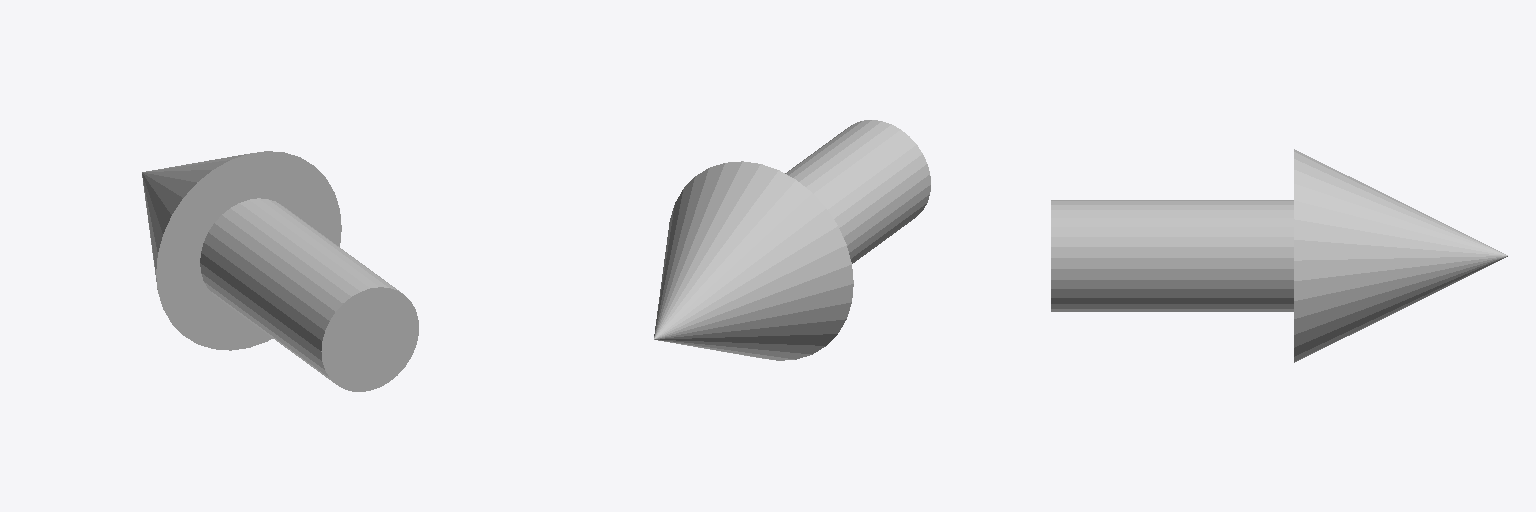
File: arrow.obj
The picture shows the model from 3 angles: view 1: azimuth 30°, elevation 25°; view 2: azimuth 150°, elevation 25°; view 3: azimuth 270°, elevation 25°; orthographic projection.
Parts seen in each view (by area): view 1: Cylinder.001; view 2: Cylinder.001; view 3: Cylinder.001.
Boxes of the visible parts, x1,y1,x2,y2 form: Cylinder.001: [142, 151, 418, 391]; Cylinder.001: [654, 120, 930, 360]; Cylinder.001: [1051, 149, 1507, 362].
Size of the model in its own units: 0.38 by 0.38 by 0.81.